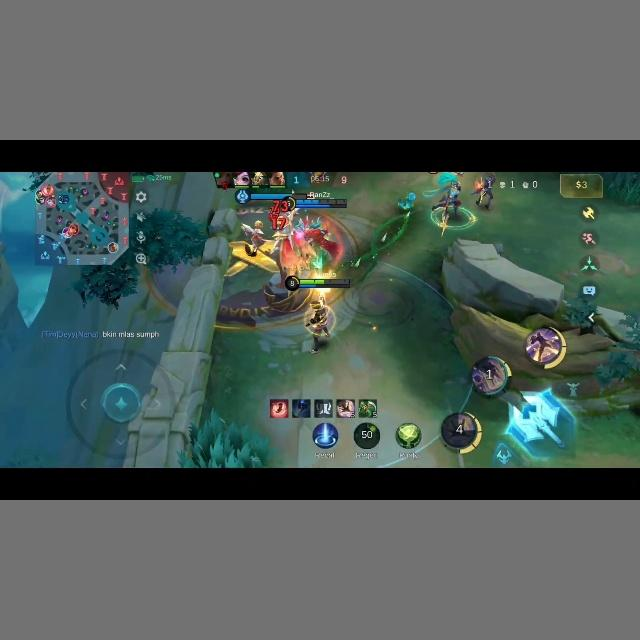hero_enemy: (433, 183, 468, 233), (474, 174, 496, 210)
hero_self: (289, 214, 331, 272), (305, 299, 335, 353)
hp_self: (293, 198, 347, 210), (298, 278, 353, 288)
